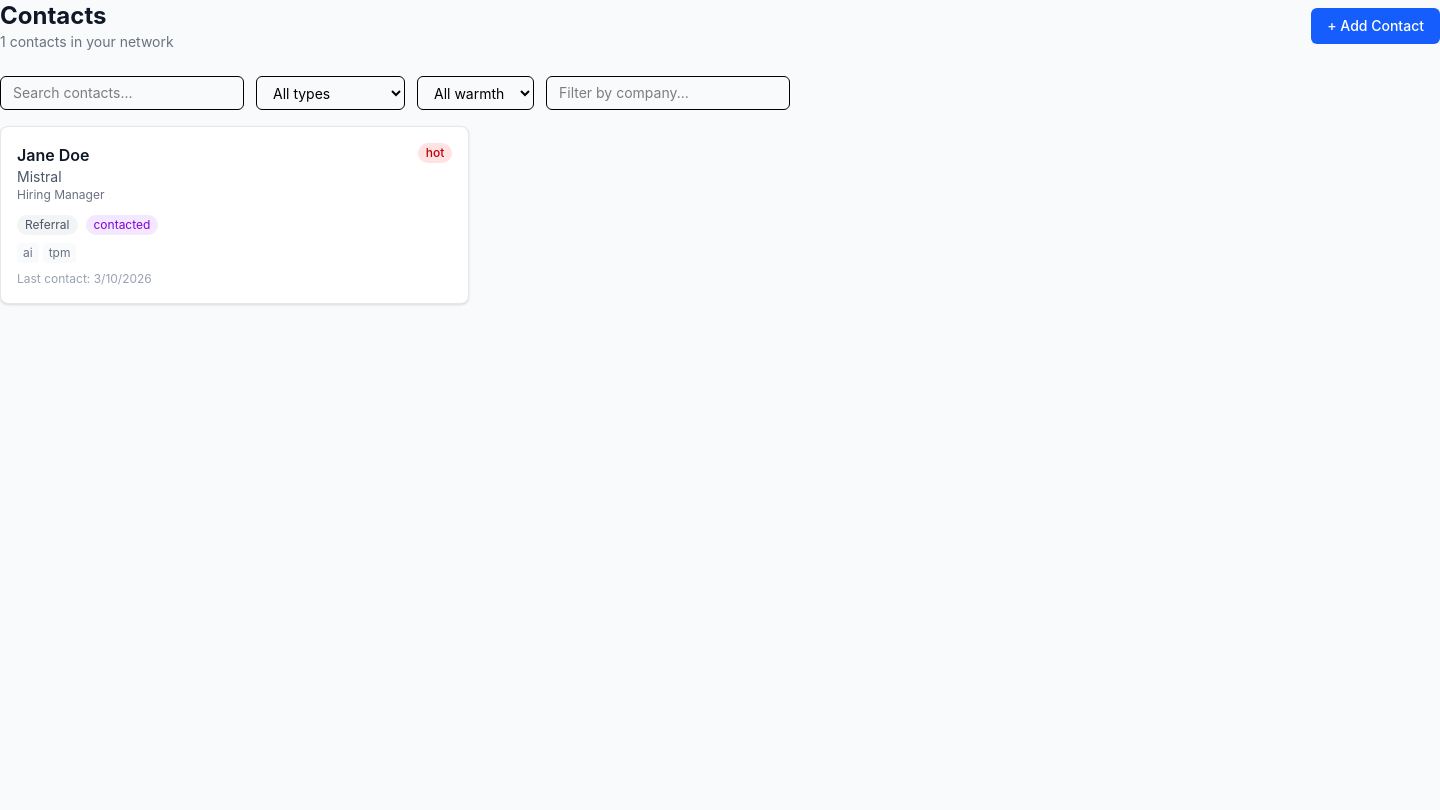
Test: ContactsPage › shows contact detail on click
Expected: the heading "Jane Doe" is shown, [17, 145, 90, 165]
Click the button with test id "contact-card-1" at (53, 155), box [0, 126, 469, 304]
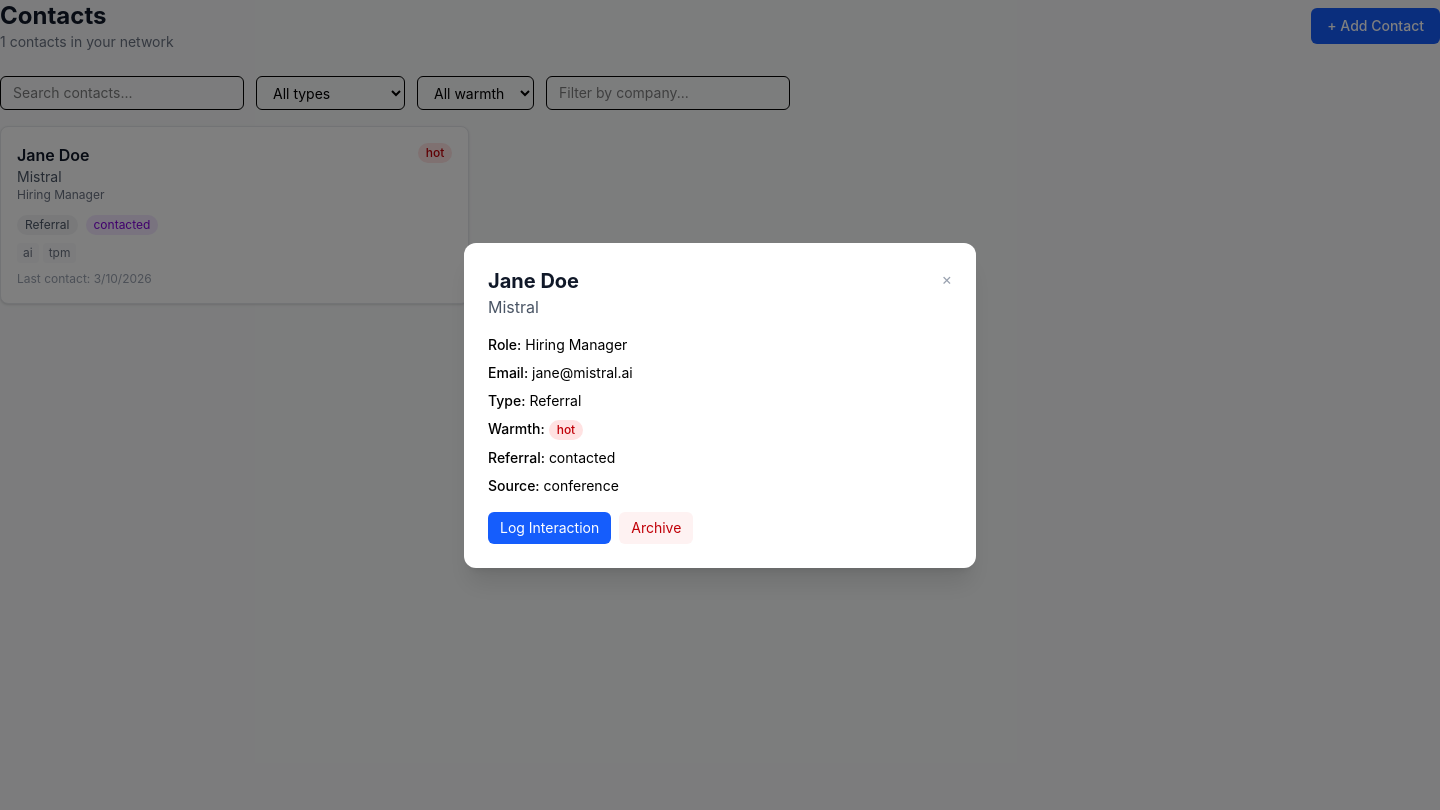
Result: the element with test id "contact-detail-overlay" is shown
